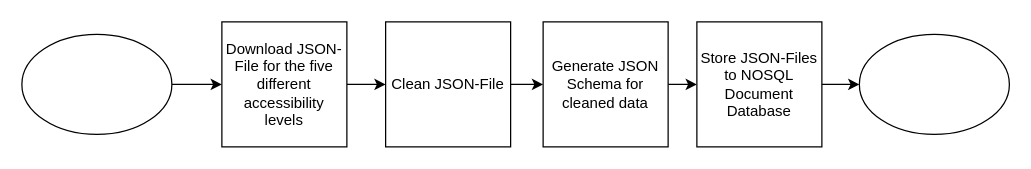
This 1031x169 diagram has some shape labels left out. The box of each missing label's shape, as (x1, y1, x2, y2) in pixels:
Setup finished: (858, 33, 1009, 134)
setup.py: (21, 33, 172, 134)
